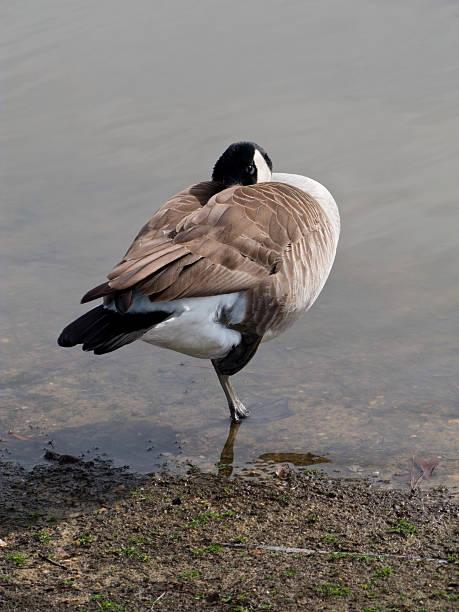Canadian-Goose: (61, 137, 341, 420)
